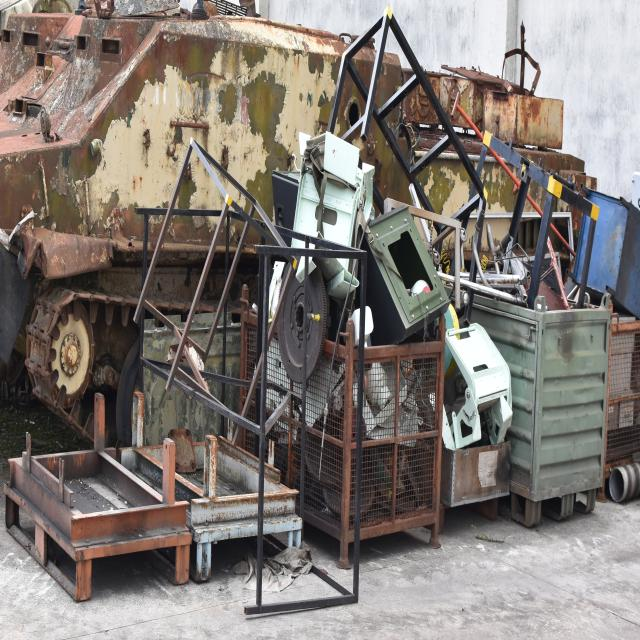entulho: (264, 125, 433, 386), (241, 258, 355, 619), (130, 138, 233, 394), (263, 350, 419, 512), (1, 218, 123, 400), (4, 484, 191, 599), (386, 49, 487, 242), (438, 324, 510, 512), (371, 4, 438, 177), (155, 365, 284, 453), (410, 68, 534, 155), (569, 182, 640, 316), (232, 262, 282, 448), (318, 238, 359, 464), (326, 8, 384, 148), (461, 209, 573, 281), (452, 100, 520, 199), (195, 141, 265, 235), (5, 514, 78, 600), (452, 270, 590, 315), (73, 501, 189, 547), (0, 226, 37, 362), (200, 429, 272, 487), (190, 489, 304, 525), (524, 180, 556, 304), (236, 179, 288, 252), (484, 222, 528, 292), (255, 279, 264, 614), (544, 168, 599, 220), (185, 138, 225, 208), (271, 168, 303, 244), (444, 65, 512, 96), (451, 277, 520, 304), (30, 451, 64, 502), (261, 244, 363, 260), (548, 237, 570, 309), (607, 461, 640, 503), (6, 210, 37, 250), (408, 184, 427, 246), (213, 0, 244, 17), (520, 20, 525, 91)
